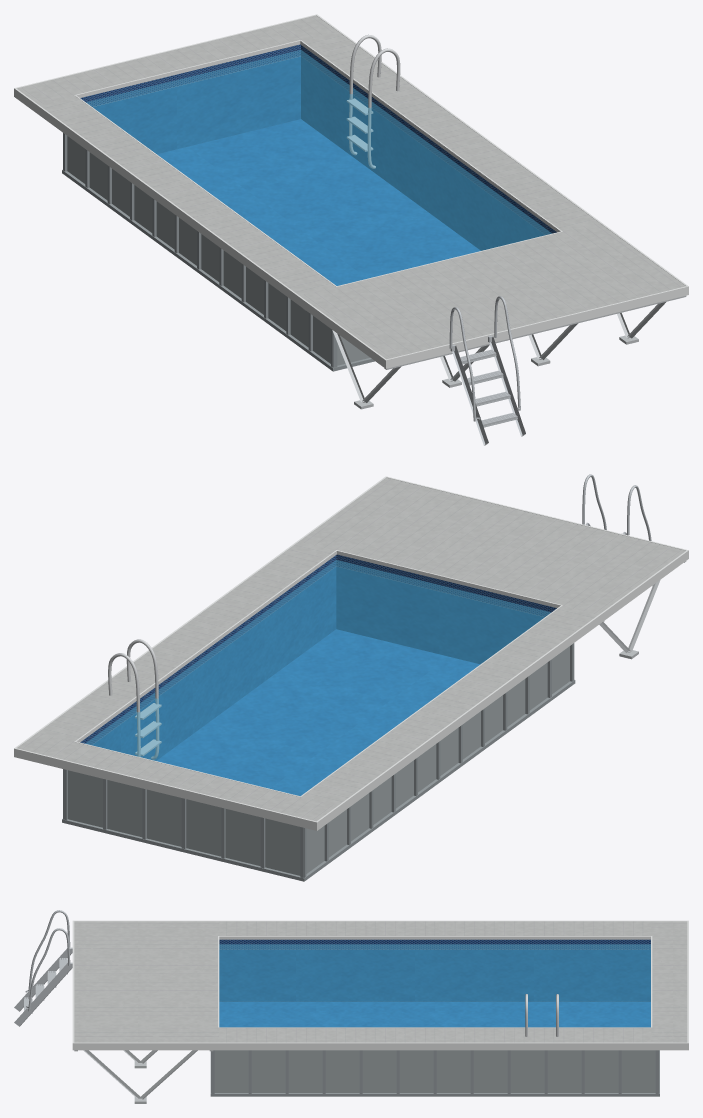
File: kayak-pool-12x24-gray-end-ag-nofence.4f98fa963a.glb
3 renders of one model, top to bottom at view 1: azimuth 30°, elevation 25°; view 2: azimuth 150°, elevation 25°; view 3: azimuth 270°, elevation 25°, orthographic. The views are drawn at different scales.
Visible parts, largest first — view 1: water, deck, liner_wall, liner_floor, fascia, wall, upright, ladder, stud, steel; view 2: water, deck, liner_wall, liner_floor, wall, fascia, upright, steel, stud, ladder; view 3: water, deck, liner_wall, wall, liner_floor, fascia, upright, ladder, stud.
Boxes of the visible parts, bbox=[...] form: water: bbox=[86, 50, 551, 285]; deck: bbox=[17, 15, 685, 359]; liner_wall: bbox=[80, 44, 556, 250]; liner_floor: bbox=[157, 119, 480, 285]; fascia: bbox=[14, 14, 688, 368]; wall: bbox=[67, 136, 369, 365]; upright: bbox=[62, 133, 374, 371]; ladder: bbox=[449, 296, 525, 445]; stud: bbox=[303, 296, 686, 409]; steel: bbox=[346, 34, 400, 168]; water: bbox=[85, 560, 550, 795]; deck: bbox=[17, 477, 685, 821]; liner_wall: bbox=[80, 554, 556, 760]; liner_floor: bbox=[157, 629, 479, 795]; wall: bbox=[68, 646, 569, 875]; fascia: bbox=[14, 476, 688, 830]; upright: bbox=[62, 643, 575, 881]; steel: bbox=[108, 639, 161, 759]; stud: bbox=[599, 561, 686, 659]; ladder: bbox=[582, 474, 652, 585]; water: bbox=[219, 944, 650, 1027]; deck: bbox=[74, 921, 687, 1042]; liner_wall: bbox=[219, 939, 650, 1001]; wall: bbox=[214, 1050, 655, 1092]; liner_floor: bbox=[219, 1002, 650, 1027]; fascia: bbox=[72, 920, 688, 1050]; upright: bbox=[210, 1050, 659, 1096]; ladder: bbox=[14, 910, 72, 1026]; stud: bbox=[74, 1050, 213, 1103].
Size of the model in its own units: 4.88 by 1.9 by 11.35.
Materials: 10 (3 with a texture image).
